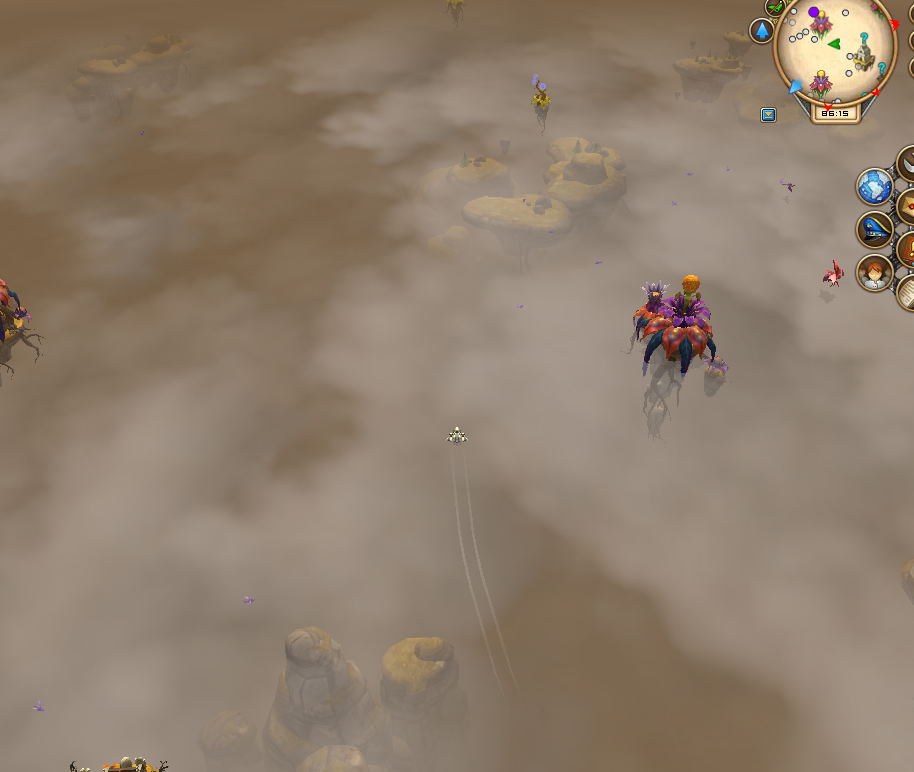dandelion-full: (526, 68, 555, 119)
